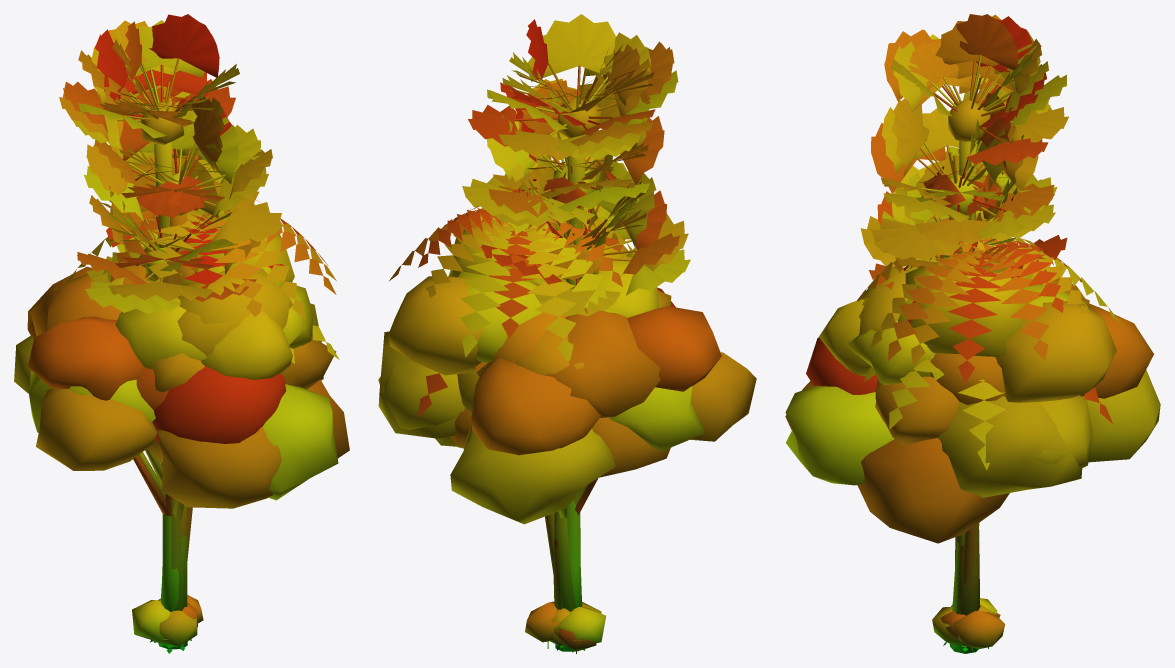
Rendered from vegetation.glb.
The picture shows the model from 3 angles, left to right: view 1: azimuth 30°, elevation 25°; view 2: azimuth 150°, elevation 25°; view 3: azimuth 270°, elevation 25°; orthographic projection.
Visible parts, largest first — view 1: Tree_Broadleaf_A_LOD0, Palm_Sugar_C, Palm_Sugar_B, Tree_Broadleaf_B_LOD0, Tree_Broadleaf_C_LOD0, Palm_Sugar_A, Palm_Coconut_B, Bush_B, Palm_Coconut_A; view 2: Tree_Broadleaf_B_LOD0, Palm_Sugar_C, Tree_Broadleaf_C_LOD0, Tree_Broadleaf_A_LOD0, Palm_Coconut_B, Palm_Sugar_B, Palm_Sugar_A, Bush_B, Bush_A, Palm_Coconut_A; view 3: Tree_Broadleaf_C_LOD0, Tree_Broadleaf_B_LOD0, Palm_Sugar_C, Palm_Sugar_B, Palm_Coconut_B, Tree_Broadleaf_A_LOD0, Palm_Sugar_A, Palm_Coconut_A, Bush_A, Bush_B.
Part boxes in pixels (x1,y1,x2,y2): Tree_Broadleaf_A_LOD0: [28, 285, 313, 649]; Palm_Sugar_C: [59, 14, 239, 611]; Palm_Sugar_B: [84, 88, 283, 573]; Tree_Broadleaf_B_LOD0: [14, 265, 349, 649]; Tree_Broadleaf_C_LOD0: [30, 228, 336, 649]; Palm_Sugar_A: [77, 154, 260, 516]; Palm_Coconut_B: [65, 200, 336, 319]; Bush_B: [132, 600, 197, 647]; Palm_Coconut_A: [187, 325, 339, 560]; Tree_Broadleaf_B_LOD0: [450, 261, 659, 651]; Palm_Sugar_C: [468, 14, 678, 607]; Tree_Broadleaf_C_LOD0: [378, 221, 660, 651]; Tree_Broadleaf_A_LOD0: [378, 288, 756, 649]; Palm_Coconut_B: [389, 206, 634, 572]; Palm_Sugar_B: [462, 75, 664, 280]; Palm_Sugar_A: [479, 154, 690, 316]; Bush_B: [557, 602, 606, 651]; Bush_A: [525, 601, 564, 646]; Palm_Coconut_A: [417, 362, 553, 574]; Tree_Broadleaf_C_LOD0: [859, 256, 1116, 653]; Tree_Broadleaf_B_LOD0: [785, 265, 1160, 652]; Palm_Sugar_C: [884, 14, 1068, 251]; Palm_Sugar_B: [870, 93, 1057, 566]; Palm_Coconut_B: [857, 237, 1120, 583]; Tree_Broadleaf_A_LOD0: [785, 265, 1092, 653]; Palm_Sugar_A: [860, 151, 1067, 288]; Palm_Coconut_A: [864, 355, 1112, 588]; Bush_A: [953, 611, 1005, 649]; Bush_B: [932, 598, 1000, 644].
Size of what is drawn, in the model's own units: 11.5 by 22.15 by 12.16.
